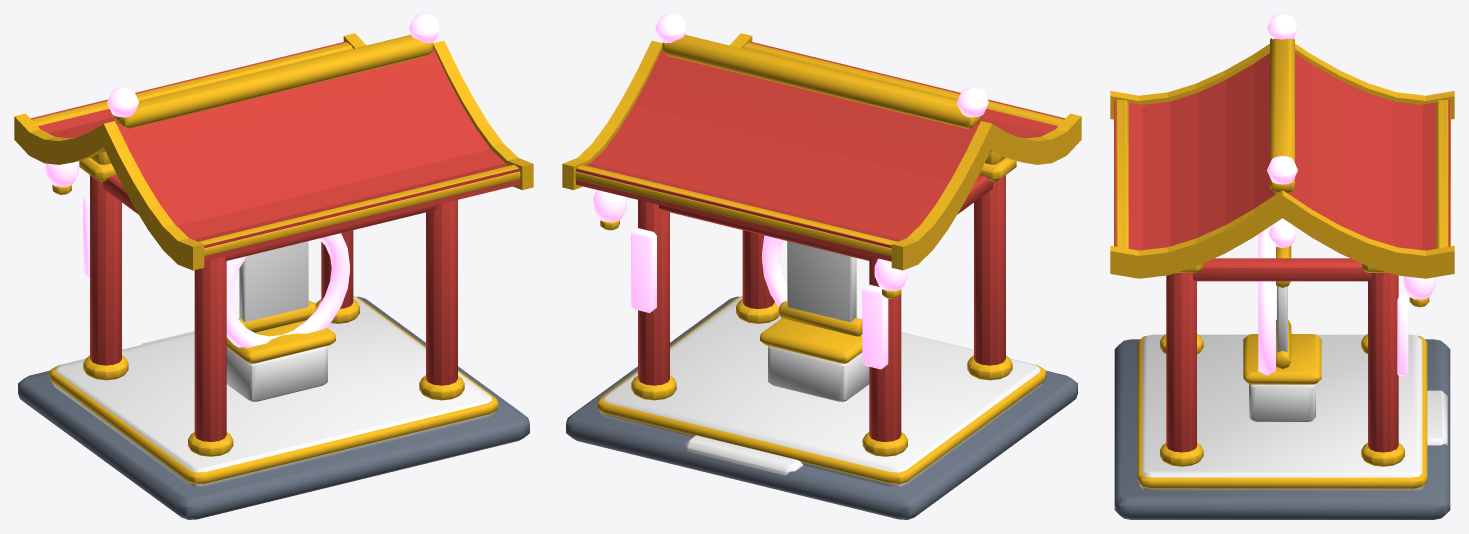
Rendered from Hub_SummonShrine.glb.
3 renders of one model, left to right at view 1: azimuth 30°, elevation 25°; view 2: azimuth 150°, elevation 25°; view 3: azimuth 270°, elevation 25°, orthographic. The views are drawn at different scales.
Parts seen in each view (by area): view 1: Red_E0453C (×2), White_FFFFFF, Gold_FFC21A (×2), Stone_6B7686, Pink_FF8FC0; view 2: Red_E0453C (×2), White_FFFFFF, Gold_FFC21A (×2), Stone_6B7686, Pink_FF8FC0; view 3: Red_E0453C (×2), Gold_FFC21A (×2), White_FFFFFF, Stone_6B7686, Pink_FF8FC0.
Part boxes in pixels (x1=…): Red_E0453C (×2): x1=30, y1=41, x2=519, y2=441; White_FFFFFF: x1=52, y1=241, x2=495, y2=486; Gold_FFC21A (×2): x1=14, y1=33, x2=533, y2=484; Stone_6B7686: x1=18, y1=296, x2=529, y2=519; Pink_FF8FC0: x1=45, y1=14, x2=440, y2=347; Red_E0453C (×2): x1=576, y1=41, x2=1065, y2=441; White_FFFFFF: x1=600, y1=241, x2=1043, y2=486; Gold_FFC21A (×2): x1=562, y1=33, x2=1081, y2=484; Stone_6B7686: x1=566, y1=296, x2=1077, y2=519; Pink_FF8FC0: x1=593, y1=14, x2=988, y2=369; Red_E0453C (×2): x1=1114, y1=53, x2=1450, y2=452; Gold_FFC21A (×2): x1=1110, y1=38, x2=1454, y2=488; White_FFFFFF: x1=1139, y1=286, x2=1447, y2=491; Stone_6B7686: x1=1114, y1=339, x2=1450, y2=519; Pink_FF8FC0: x1=1258, y1=14, x2=1435, y2=375.
Size of the model in its own units: 14 by 13.95 by 12.3.
